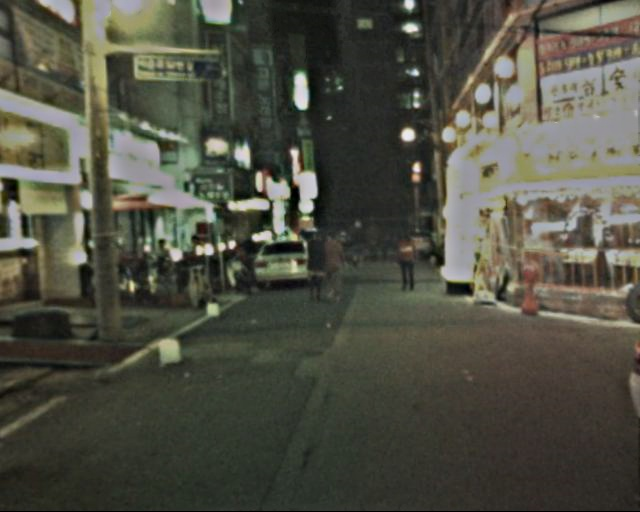person: (319, 224, 350, 304), (301, 226, 330, 305), (393, 226, 423, 295), (347, 215, 372, 271), (368, 223, 391, 262)
